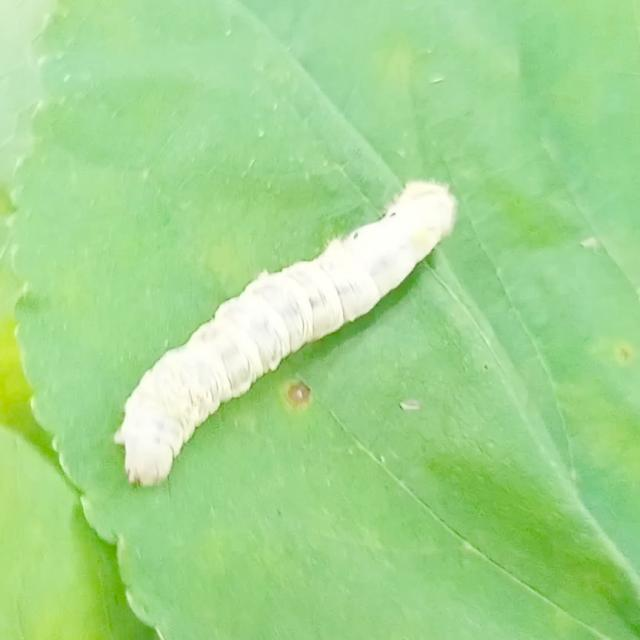Grasserie: (98, 129, 451, 503)
